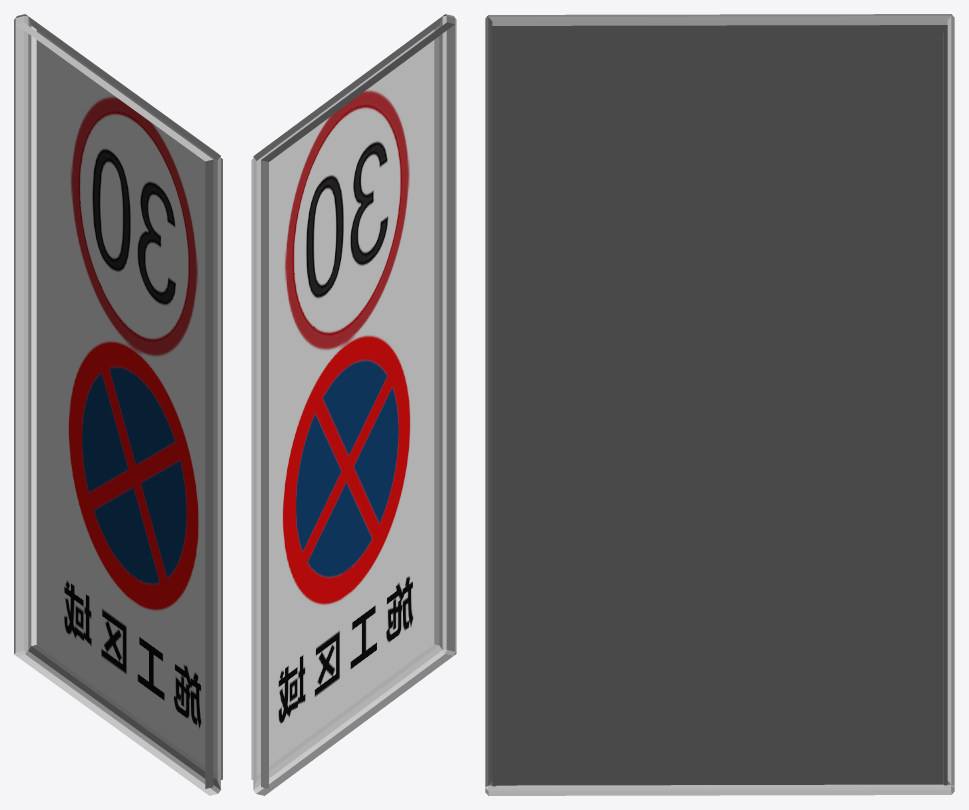
The picture shows the model from 3 angles, left to right: view 1: azimuth 30°, elevation 25°; view 2: azimuth 150°, elevation 25°; view 3: azimuth 270°, elevation 25°; orthographic projection. The views are drawn at different scales.
Parts seen in each view (by area): view 1: model14; view 2: model14; view 3: model14.
Boxes of the visible parts, left/top/right/bottom form: model14: left=14, top=14, right=222, bottom=795; model14: left=251, top=14, right=456, bottom=795; model14: left=485, top=14, right=954, bottom=795.
Size of the model in its own units: 0.0843 by 2.46 by 1.35.
Materials: 2 (1 with a texture image).
